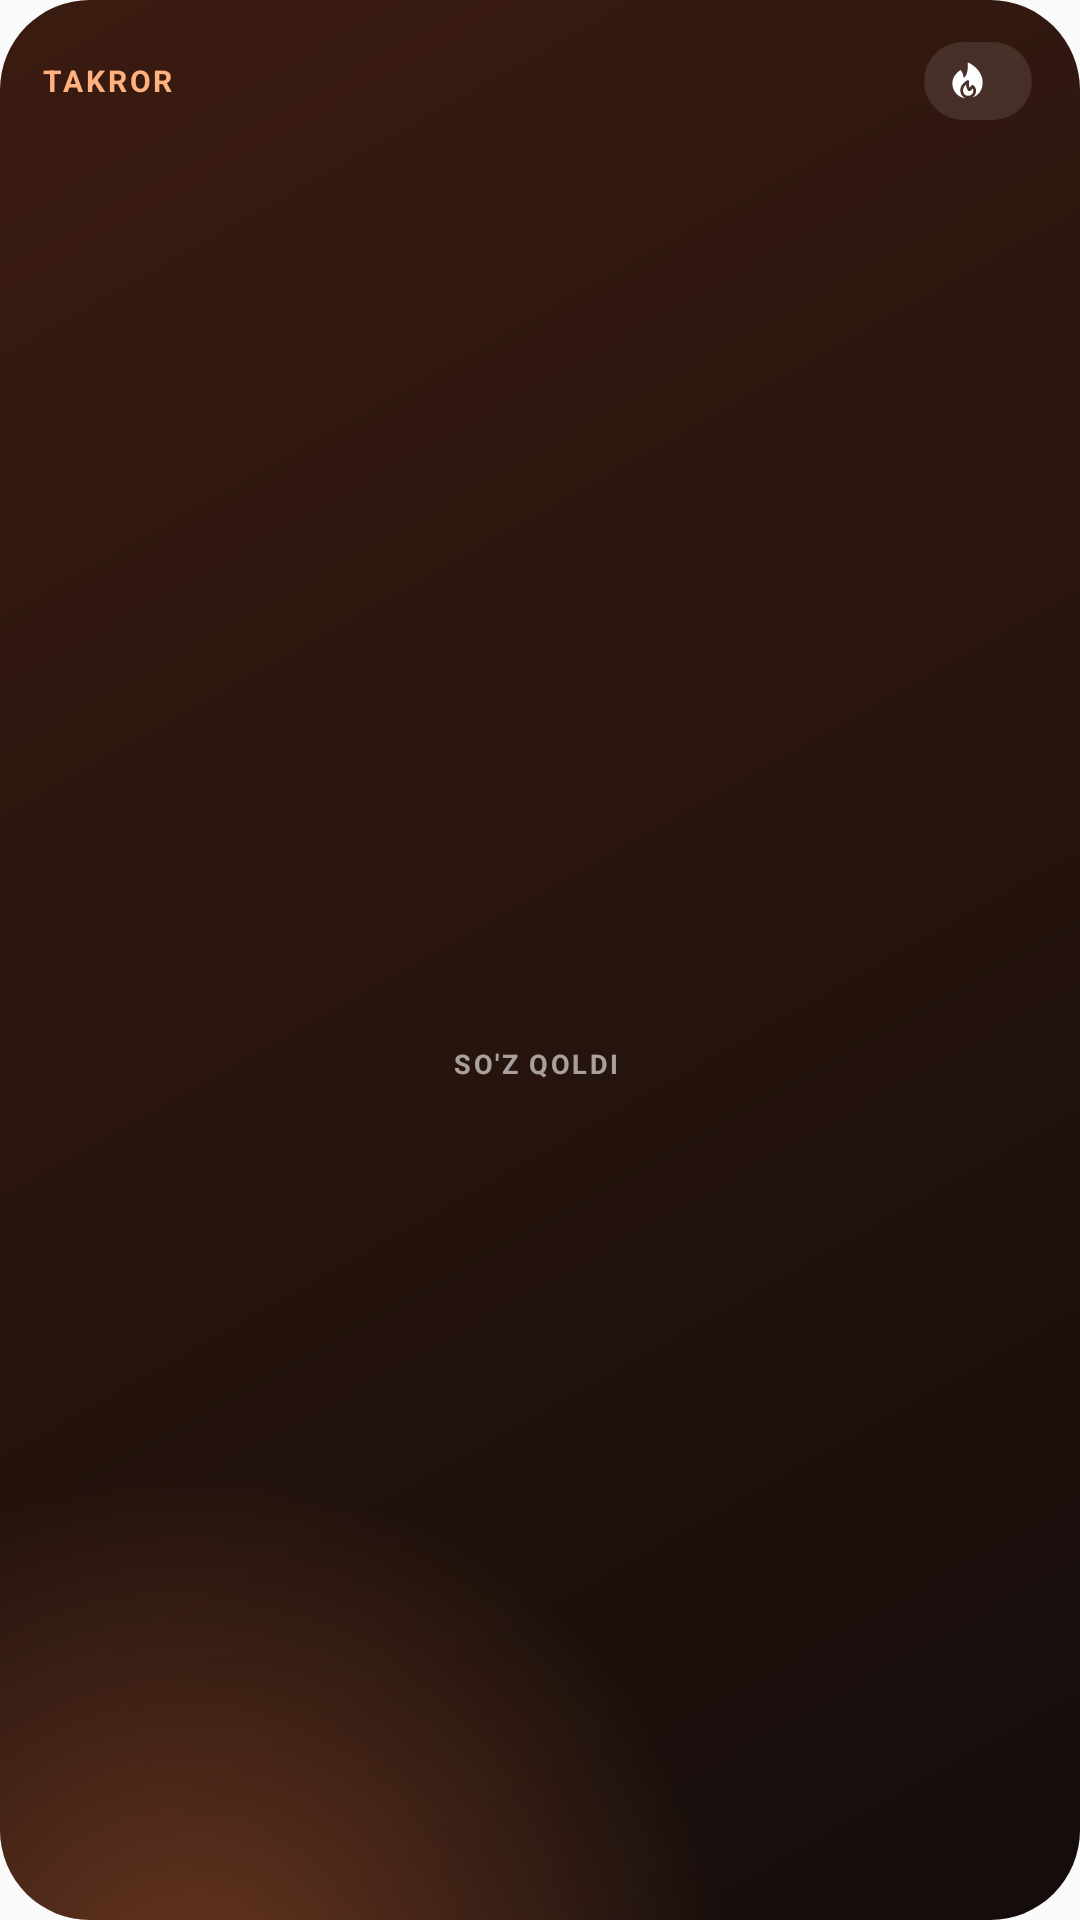

Screen size 1080w x 1920h. Icon name, then its center in pixels as point (x, y):
fire: point (967, 80)
